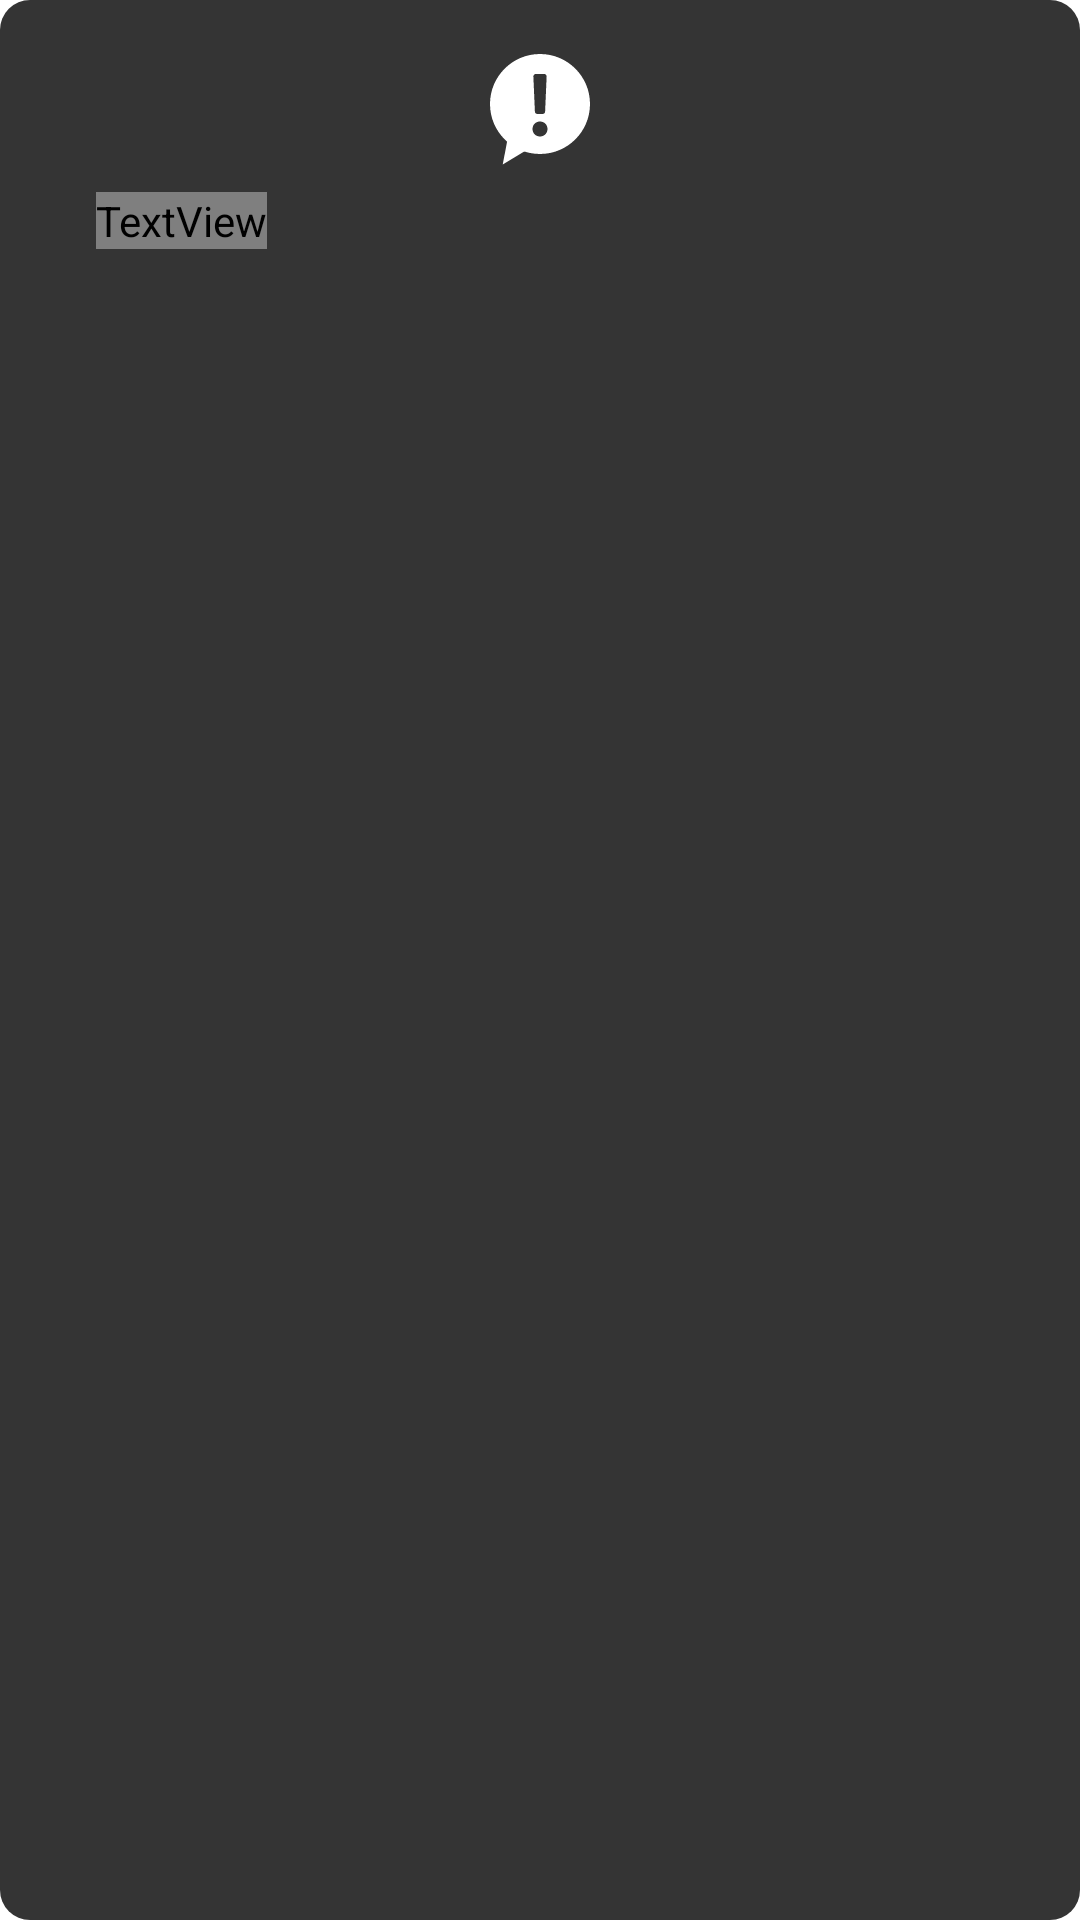

Where to tap for icons on this 1080px x 1920px app screen, as [x,y]:
message dialog: [540,109]
